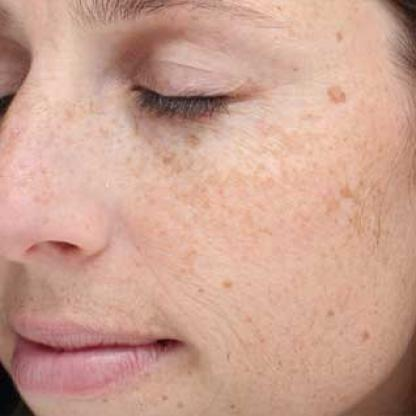darkspot: (22, 91, 94, 204), (347, 319, 379, 351), (316, 80, 350, 107), (270, 2, 292, 34), (152, 392, 191, 408), (327, 22, 348, 49), (288, 60, 301, 84), (328, 300, 342, 322)
wrinkle: (152, 244, 283, 375), (330, 172, 400, 278), (161, 122, 293, 176)
